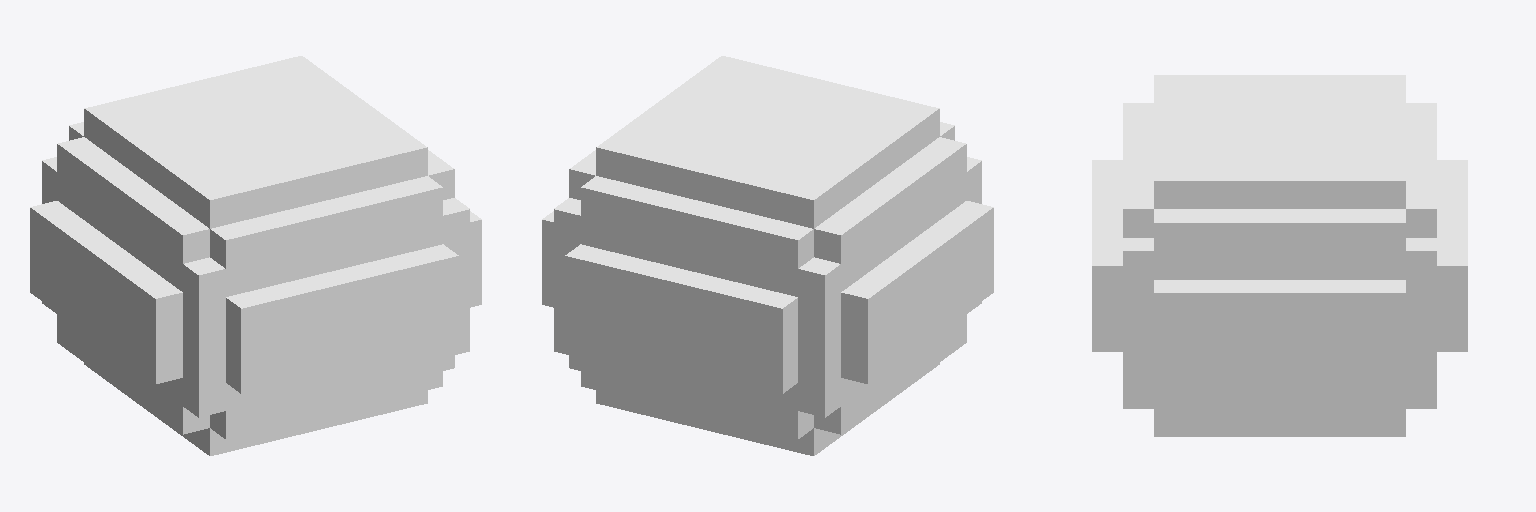
The model's file is boxmac.obj.
The picture shows the model from 3 angles: view 1: azimuth 30°, elevation 25°; view 2: azimuth 150°, elevation 25°; view 3: azimuth 270°, elevation 25°; orthographic projection.
Parts seen in each view (by area): view 1: object 1; view 2: object 1; view 3: object 1.
Part boxes in pixels (x1,y1,x2,y2): object 1: (30,56,481,455); object 1: (542,56,993,455); object 1: (1092,75,1467,436).
Bounding box in the file's own units: 1.2 × 0.9 × 1.2.